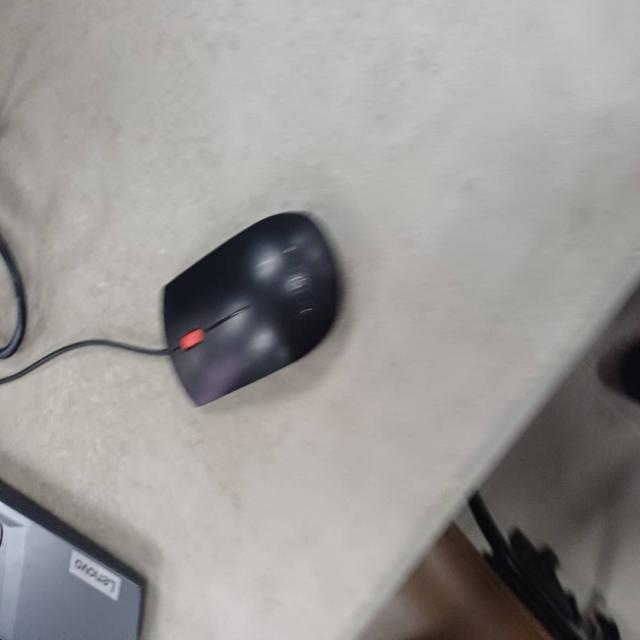mouse: (154, 200, 348, 417)
